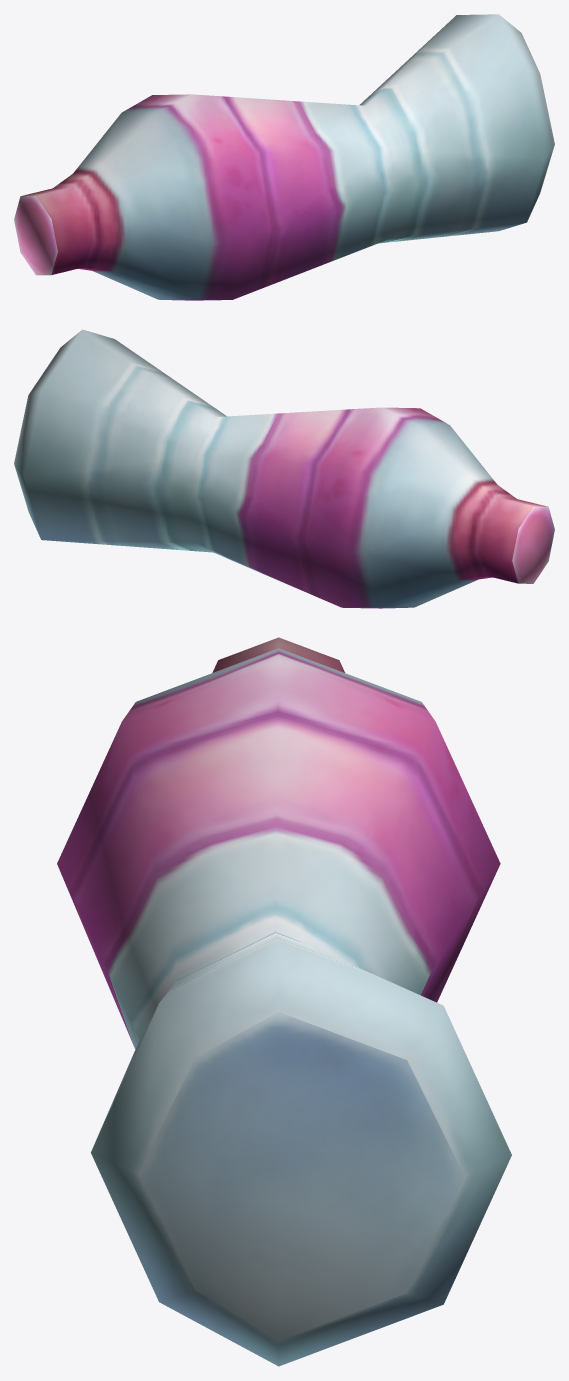
The model's file is 3D_recycle_trash_plastic03.FBX.
The picture shows the model from 3 angles, top to bottom: view 1: azimuth 30°, elevation 25°; view 2: azimuth 150°, elevation 25°; view 3: azimuth 270°, elevation 25°; orthographic projection. The views are drawn at different scales.
Visible parts, largest first — view 1: 3D_recycle_trash_plastic03; view 2: 3D_recycle_trash_plastic03; view 3: 3D_recycle_trash_plastic03.
Part boxes in pixels (x1,y1,x2,y2): 3D_recycle_trash_plastic03: (14, 14, 554, 300); 3D_recycle_trash_plastic03: (14, 329, 554, 608); 3D_recycle_trash_plastic03: (57, 637, 511, 1366).
Size of the model in its own units: 0.5804 by 0.2478 by 0.2418.
